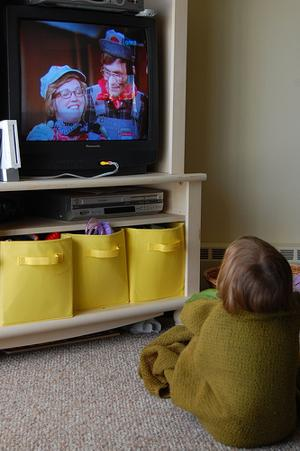person: (182, 237, 296, 446)
